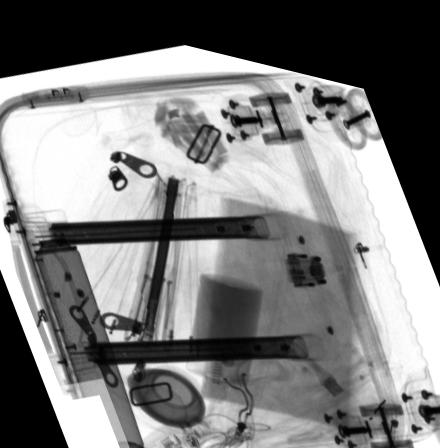Sprayer: (24, 207, 145, 448)
